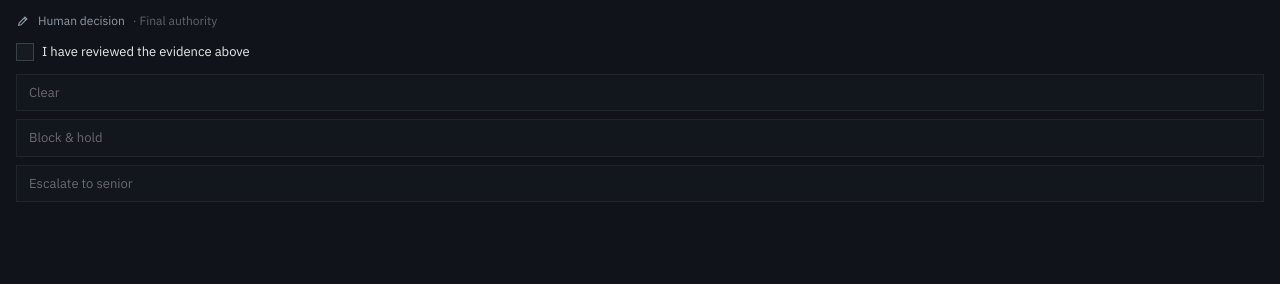
Test: HumanDecisionPanel › requires a reason for Clear too (mandatory for all three actions)
Step 1. Click the text "I have reviewed the evidence above" → (133, 52), box left=16, top=43, right=250, bottom=61
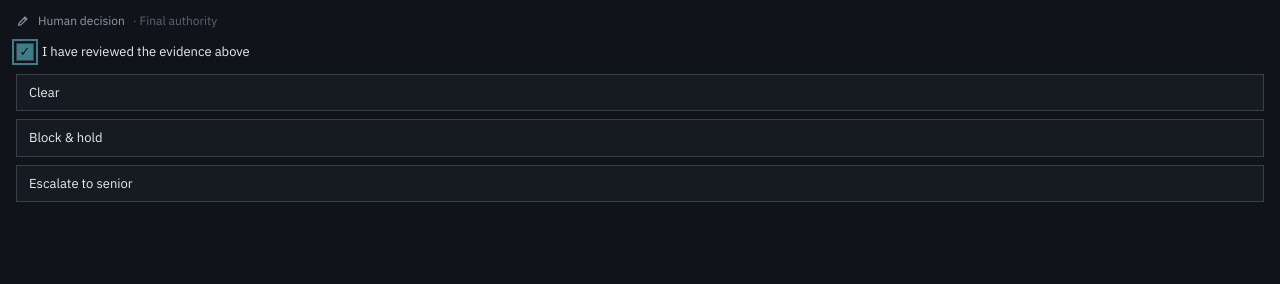
Step 2. Click the button "Clear" → (44, 92), box left=16, top=74, right=1264, bottom=111
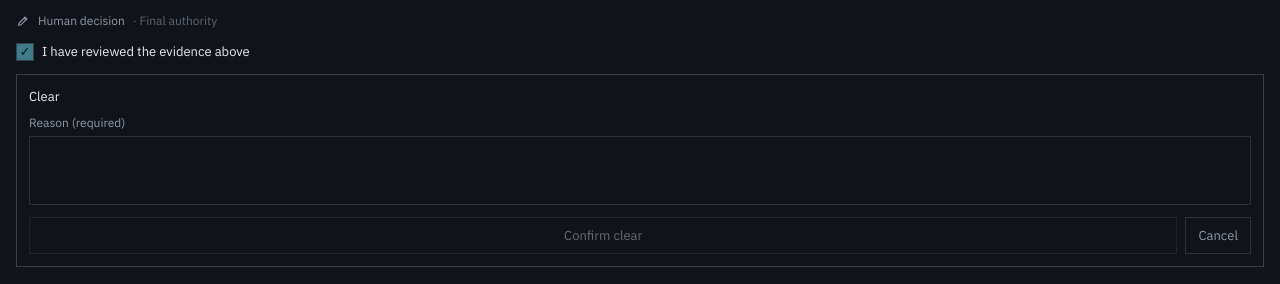
Expected: the button "Confirm clear" is disabled, left=29, top=216, right=1178, bottom=254
Step 3. Type "Reviewed, legitimate purchase" into the text box labelled "Reason (required)" → (640, 170), box left=29, top=136, right=1251, bottom=204
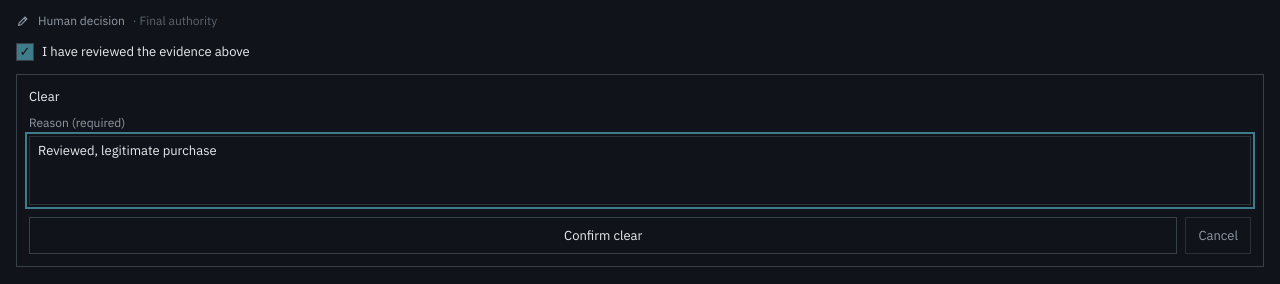
Expected: the button "Confirm clear" is enabled, left=29, top=216, right=1178, bottom=254
